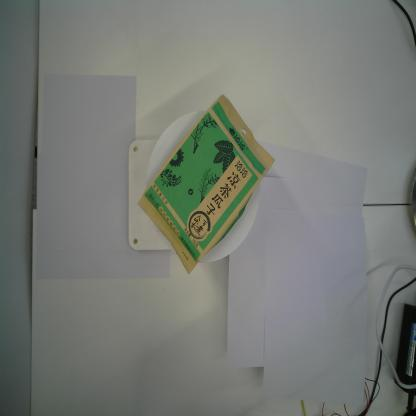Dried Food: (135, 92, 277, 276)
